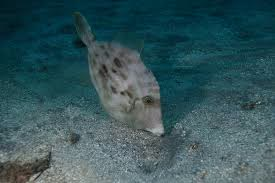kawahagi: (64, 18, 182, 135)
